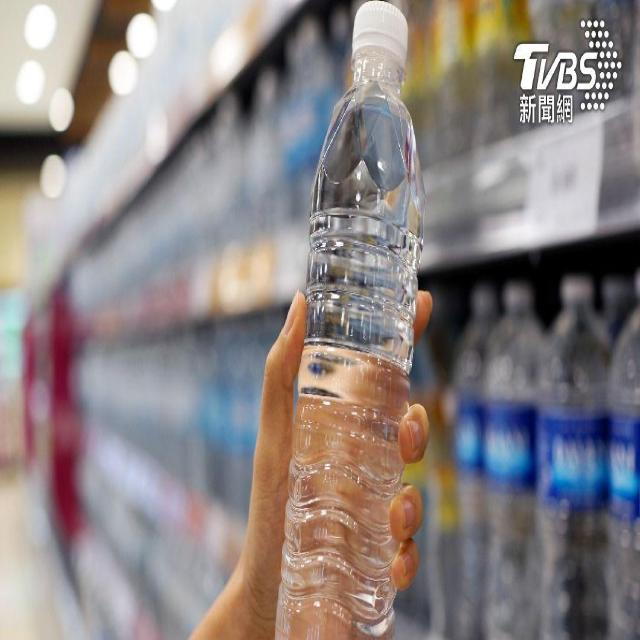bottle: (272, 0, 422, 640), (540, 265, 606, 640), (481, 268, 539, 640), (605, 262, 640, 640)
